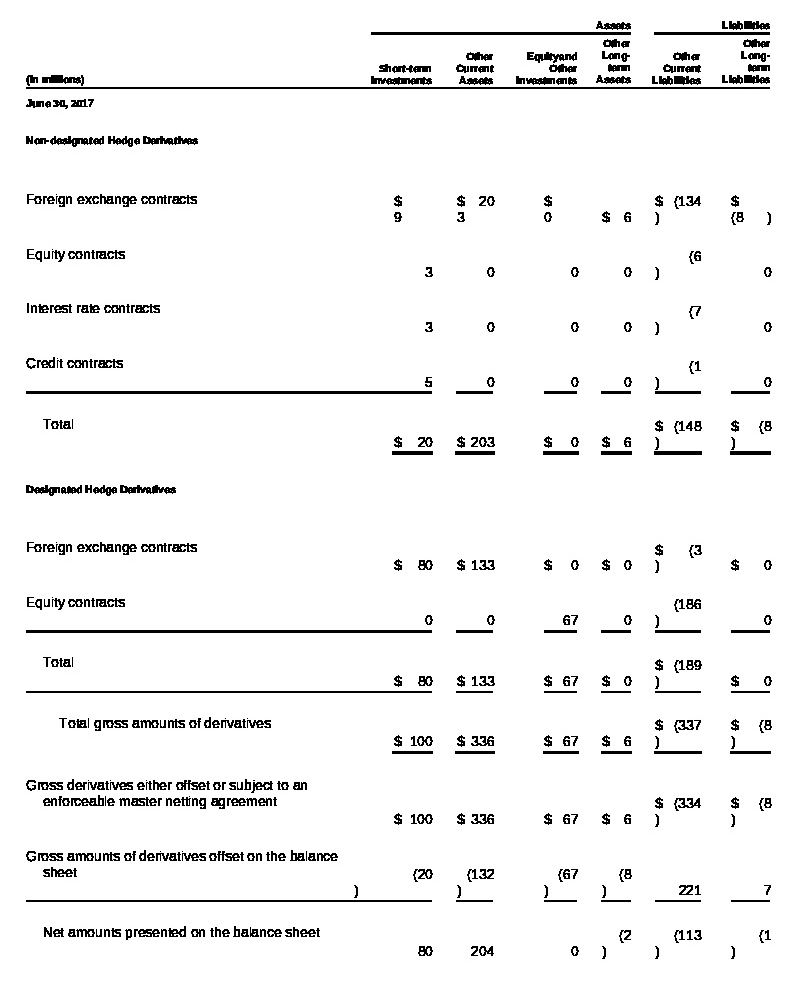table: (0, 0, 807, 982)
